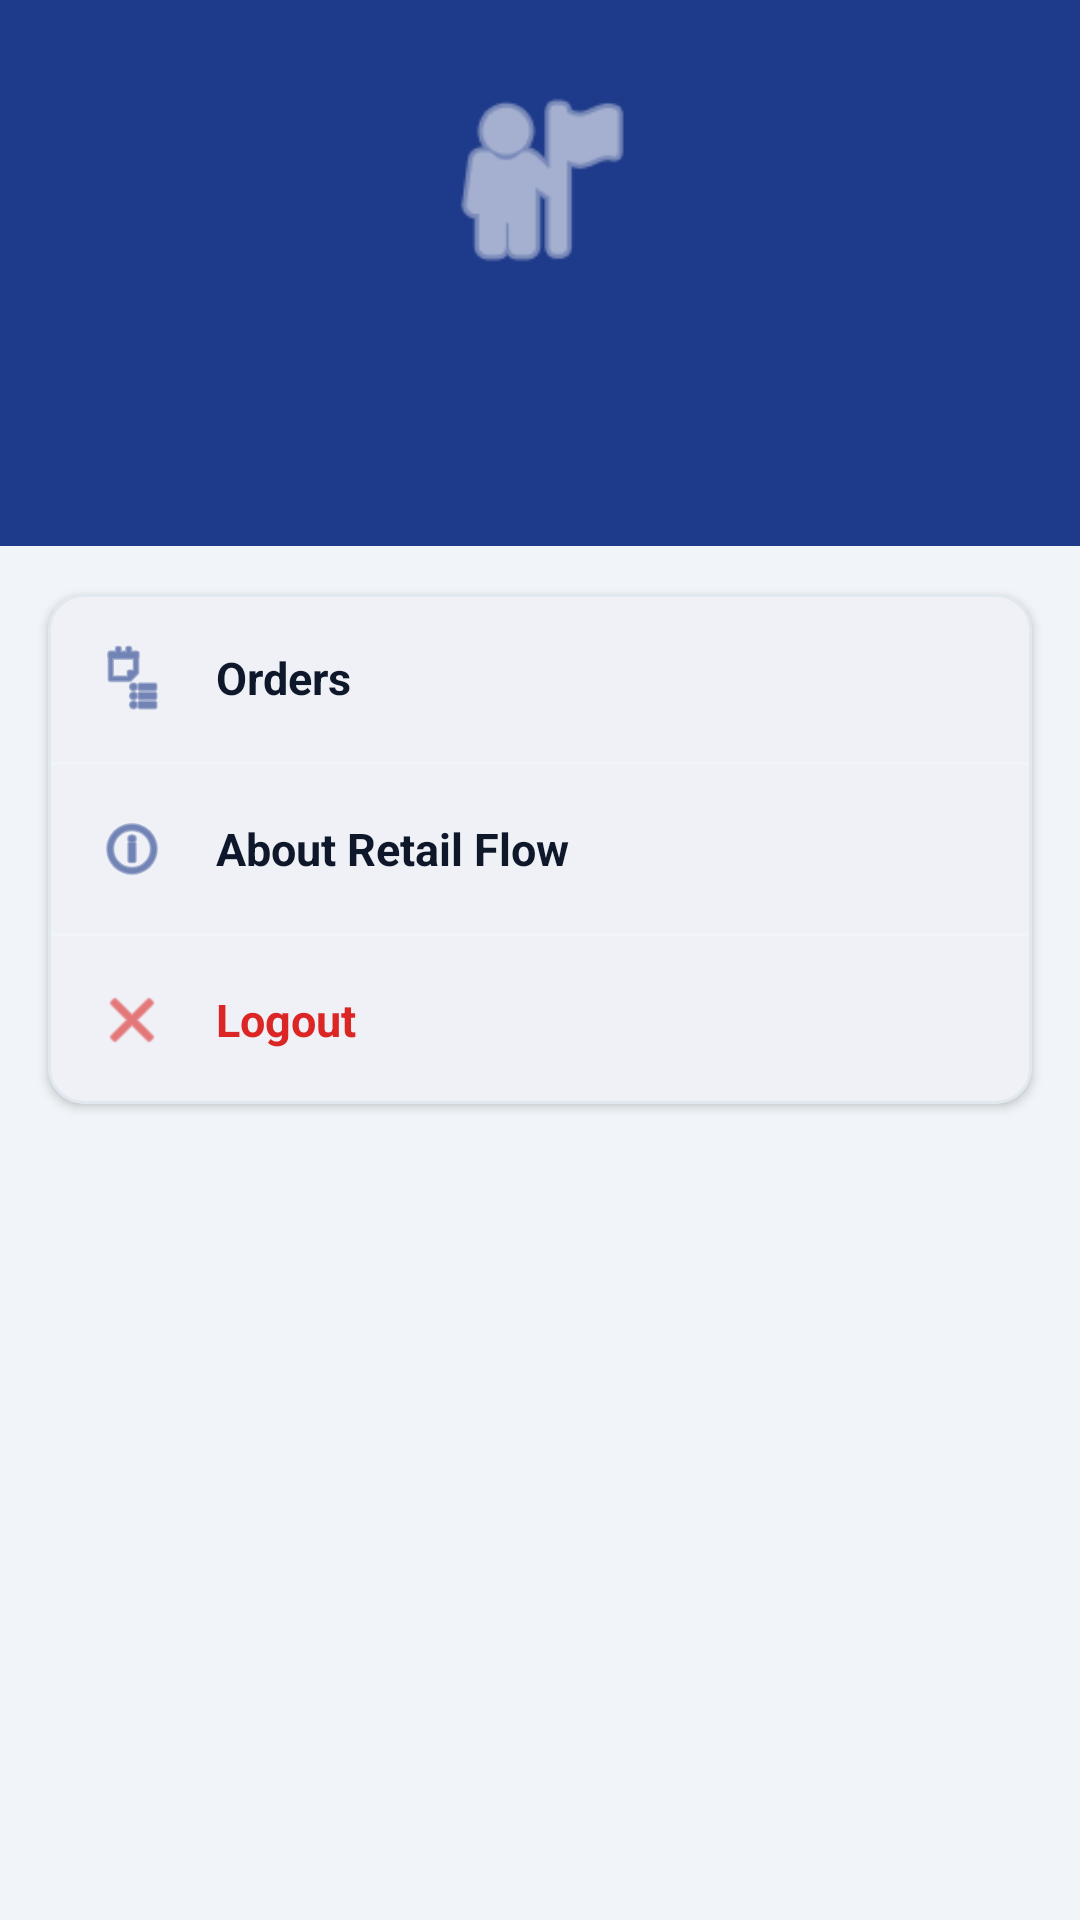

Icon click points for this 1080x1920 phone screenshot, format [x,y]:
agenda: [132,678]
close clear cancel: [132,1020]
info details: [132,849]
myplaces: [542,180]
